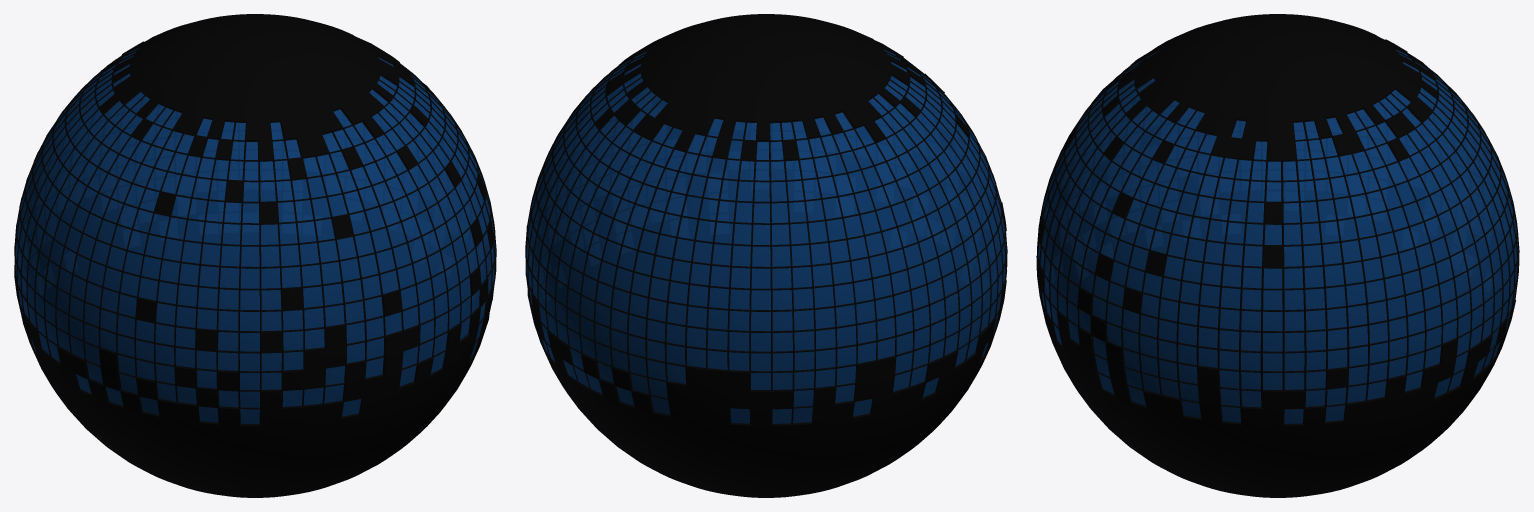
File: qiuxing.fbx
3 renders of one model, left to right at view 1: azimuth 30°, elevation 25°; view 2: azimuth 150°, elevation 25°; view 3: azimuth 270°, elevation 25°, orthographic.
Parts seen in each view (by area): view 1: Sphere003, Object001, Sphere004; view 2: Sphere003, Object001, Sphere004; view 3: Sphere003, Object001, Sphere004.
Part boxes in pixels (x1,y1,x2,y2): Sphere003: (15,47,495,423); Object001: (14,14,494,497); Sphere004: (14,41,496,425); Sphere003: (526,49,1006,423); Object001: (527,14,1006,497); Sphere004: (525,47,1007,425); Sphere003: (1038,49,1518,423); Object001: (1036,14,1515,497); Sphere004: (1037,38,1519,425).
Bounding box in the file's own units: 13997 × 14044 × 14013.
